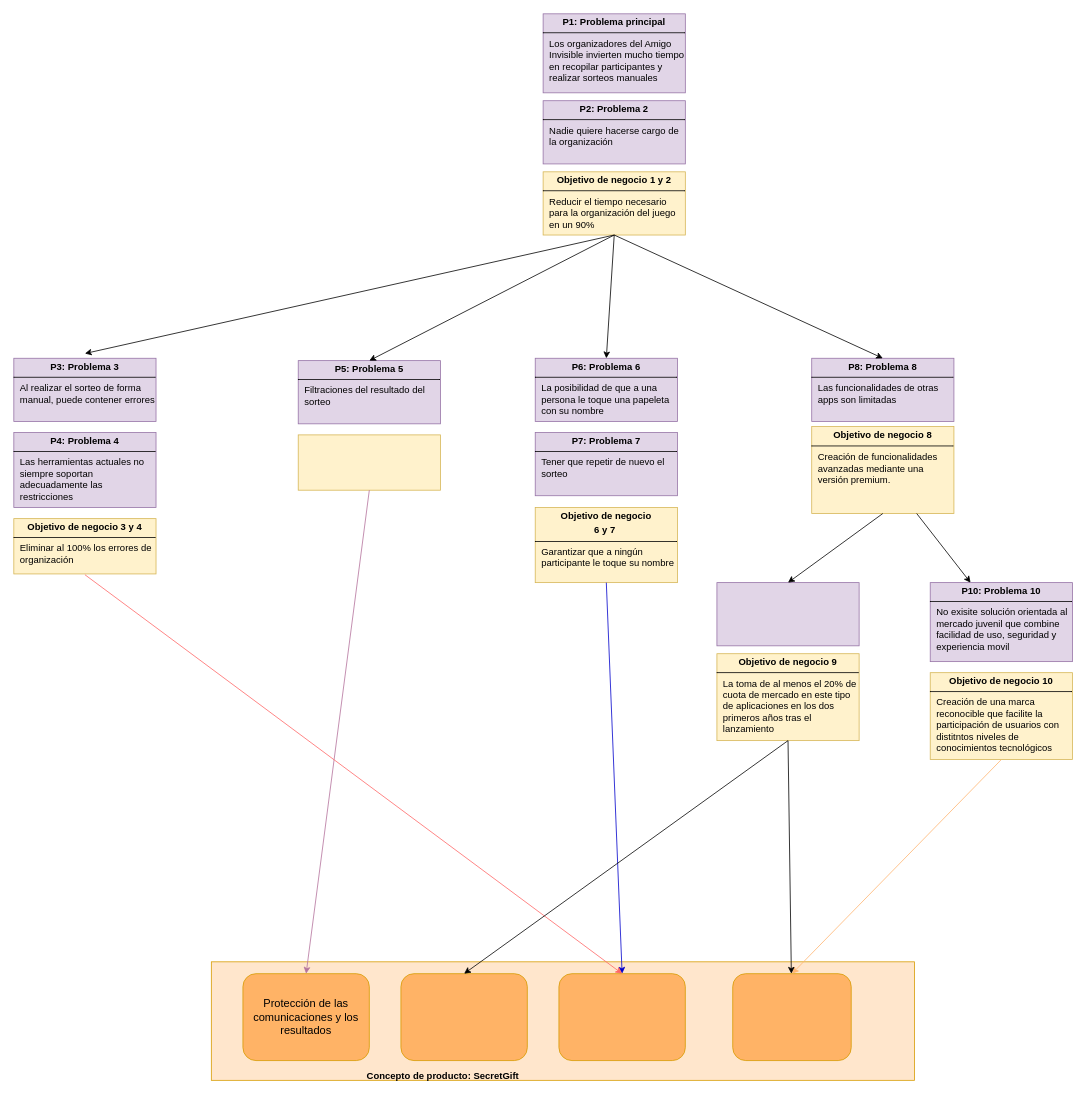
Some shapes in this 1086 by 1102 pixel diagram are drawn without their labels. Each missing label, with the box of its shape:
Adaptabilidad al usuario: (732, 973, 851, 1061)
Gestión con comercios locales: (400, 973, 527, 1061)
Objetivo de negocio 5 Garantizar al 100% la confidencialidad: (297, 434, 440, 490)
Organización del sorteos: (558, 973, 685, 1061)
P9: Problema 9 Los modelos de monetización son poco equilibrados: (716, 582, 859, 646)
